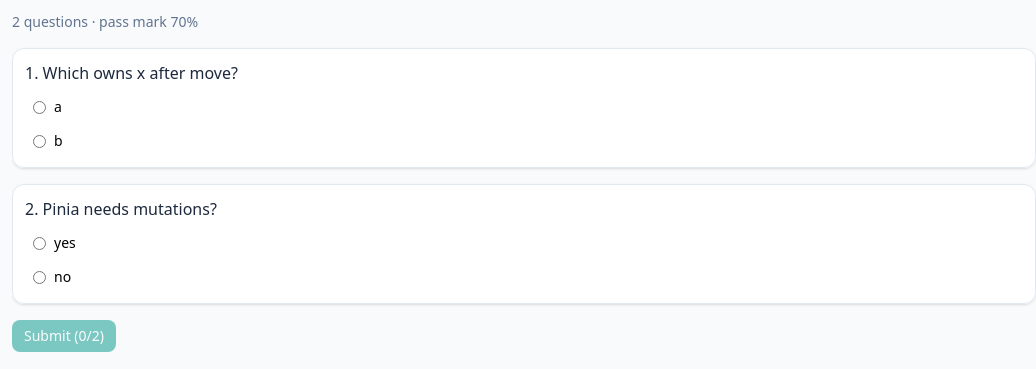
Test: <QuizPanel> › disables submit until every question is answered
The image size is (1036, 369).
Expected: the button with test id "quiz-submit" is disabled, [12, 320, 116, 352]
Click the radio button labelled "a" at (40, 107), box [33, 100, 46, 114]
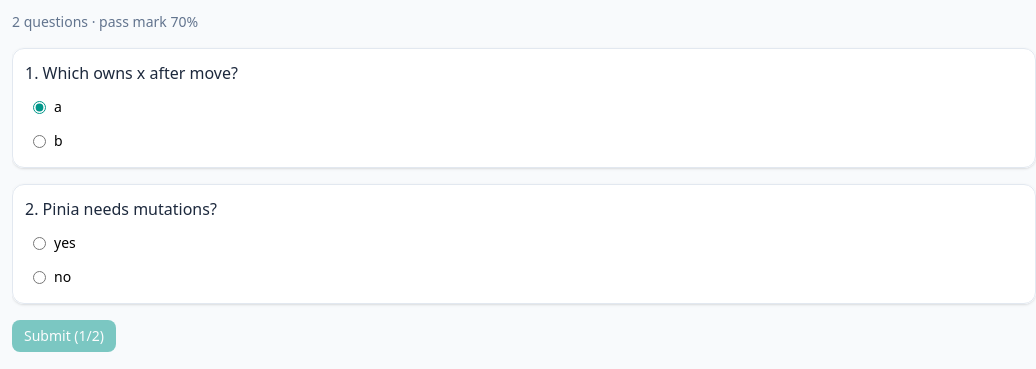
Click the radio button labelled "yes" at (40, 243), box [33, 236, 46, 250]
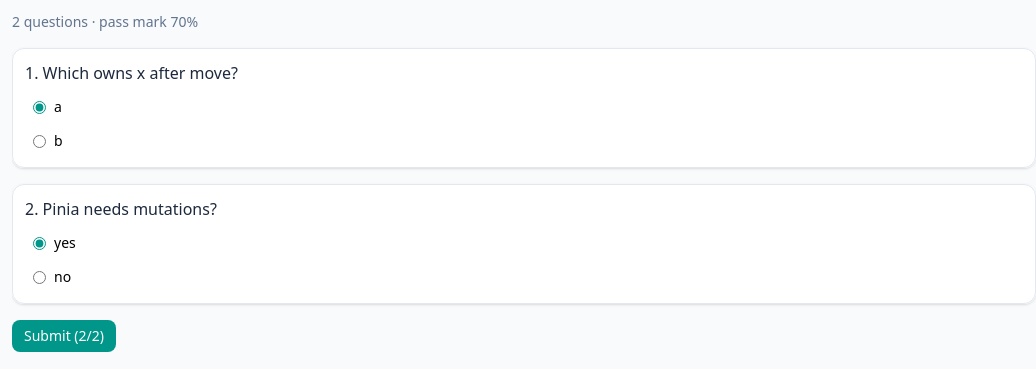
Now the button with test id "quiz-submit" is enabled, box [12, 320, 116, 352]
